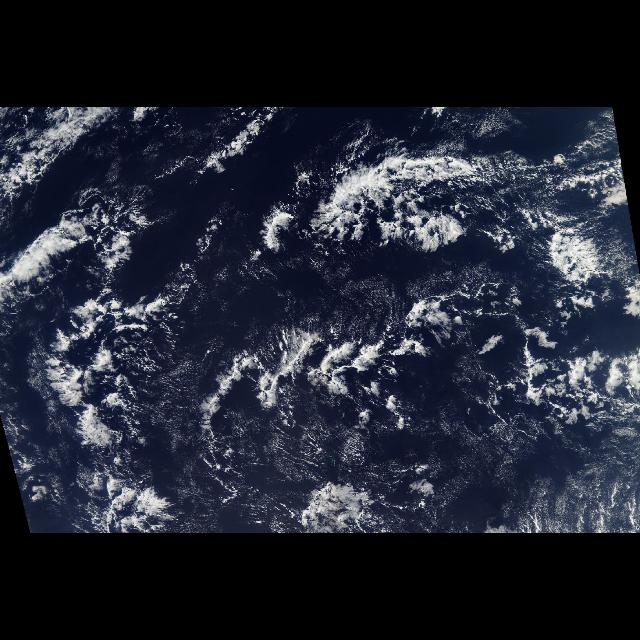Fish: (260, 143, 634, 267), (199, 317, 433, 433)
Sugar: (17, 272, 638, 530)
